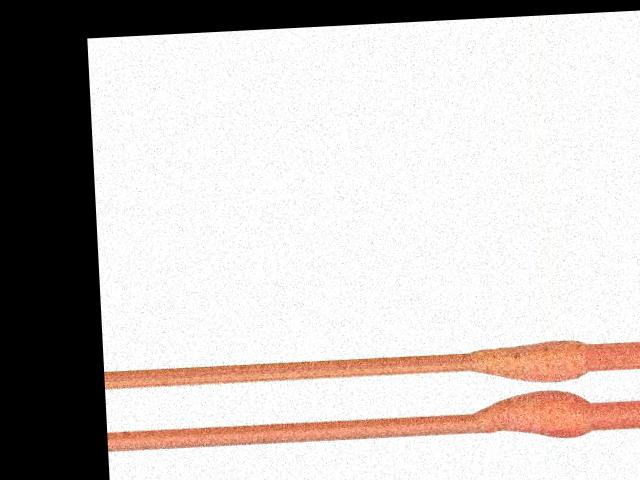sweet_potato: (472, 340, 590, 386)
